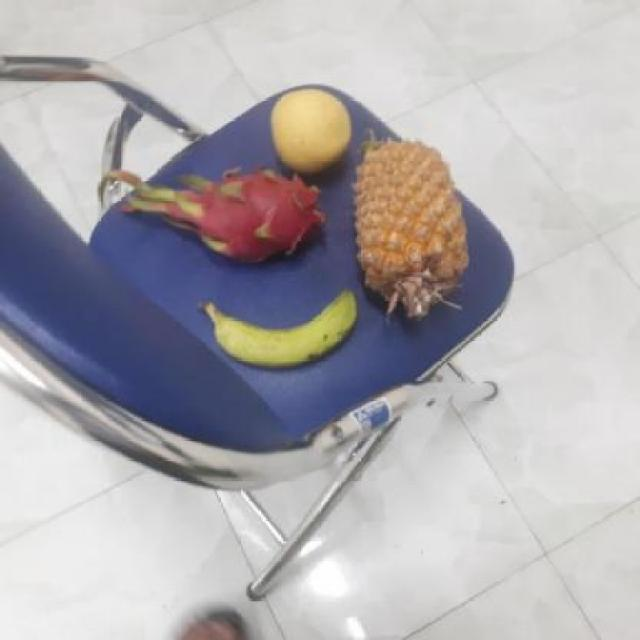banana: (210, 280, 352, 366)
dragon fruit: (152, 169, 320, 266)
pear: (270, 89, 352, 173)
pineapple: (348, 137, 470, 318)
